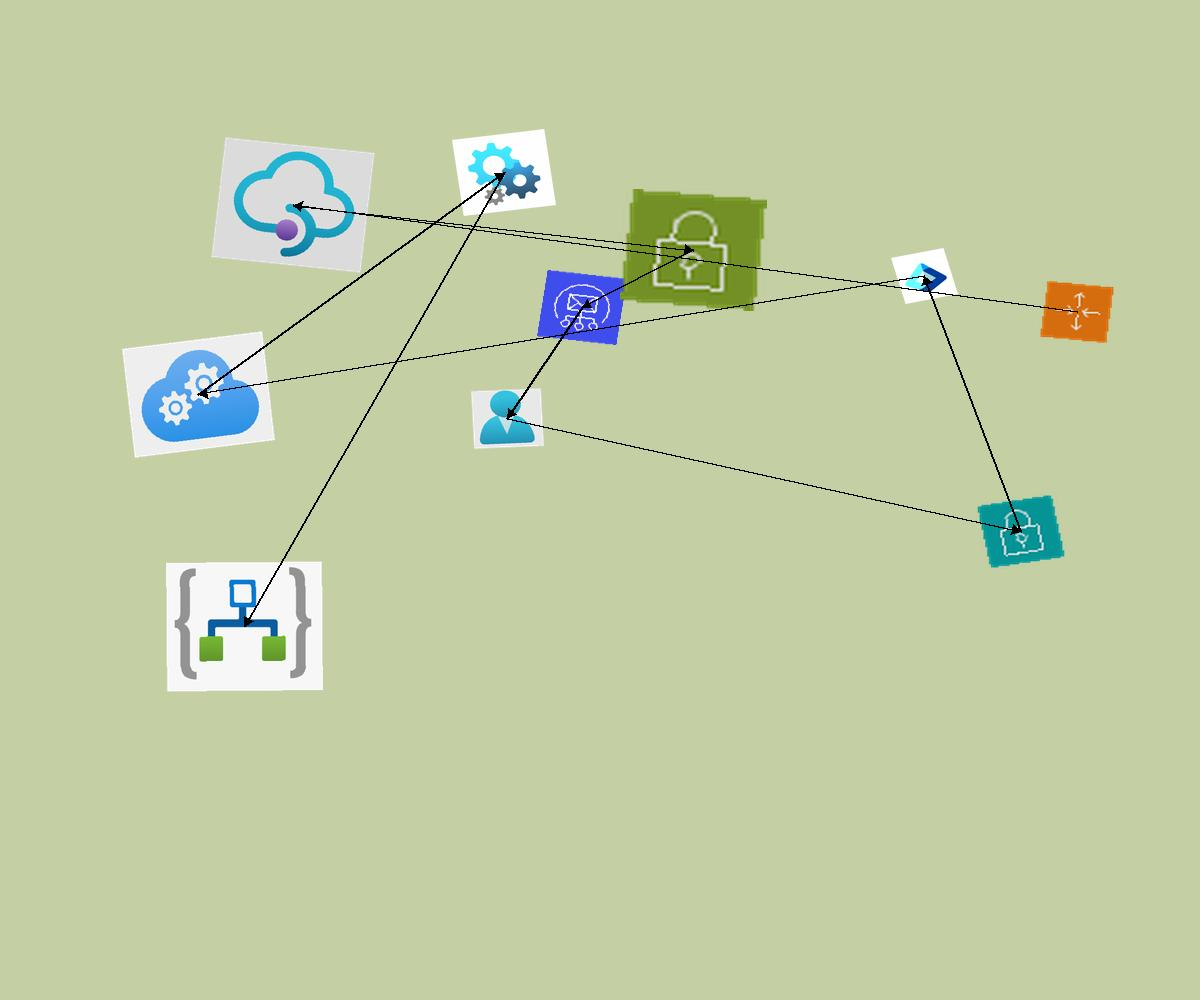AWS-Private-subnet: (976, 494, 1066, 569)
AWS-Public-subnet: (620, 189, 767, 311)
AWS-Scaling-group: (1039, 280, 1115, 344)
AWS-Simple-Email-Service: (537, 270, 627, 345)
Azure_api: (452, 129, 556, 216)
Azure_api_gateway: (211, 137, 375, 273)
Azure_cloud_services: (122, 331, 275, 458)
Azure_integration-204-Logic-Apps: (166, 561, 323, 692)
Azure_microsoft_entra: (891, 248, 958, 304)
Azure_users: (471, 388, 544, 449)
